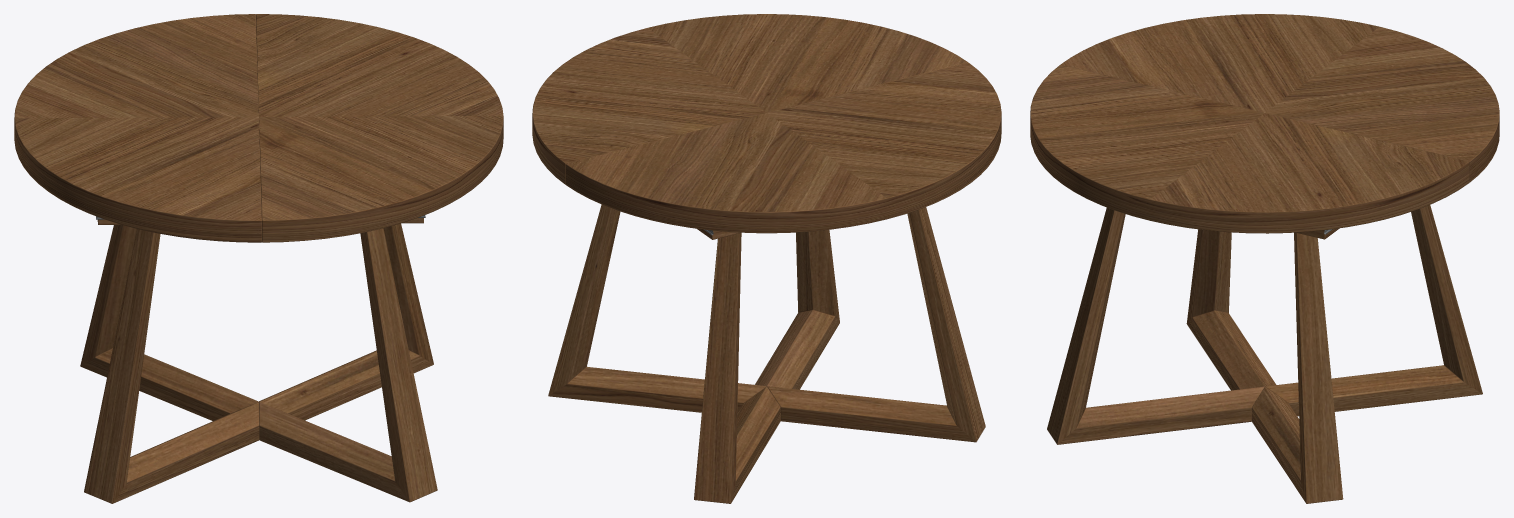
The picture shows the model from 3 angles, left to right: view 1: azimuth 30°, elevation 25°; view 2: azimuth 150°, elevation 25°; view 3: azimuth 270°, elevation 25°; orthographic projection. The views are drawn at different scales.
Parts seen in each view (by area): view 1: Belgrave_Extending_Table; view 2: Belgrave_Extending_Table; view 3: Belgrave_Extending_Table.
Boxes of the visible parts, left/top/right/bottom form: Belgrave_Extending_Table: left=14, top=14, right=503, bottom=503; Belgrave_Extending_Table: left=532, top=14, right=1001, bottom=503; Belgrave_Extending_Table: left=1030, top=14, right=1499, bottom=503.
Size of what is drawn, in the model's own units: 120 by 84.3 by 120.
Materials: 2 (1 with a texture image).
